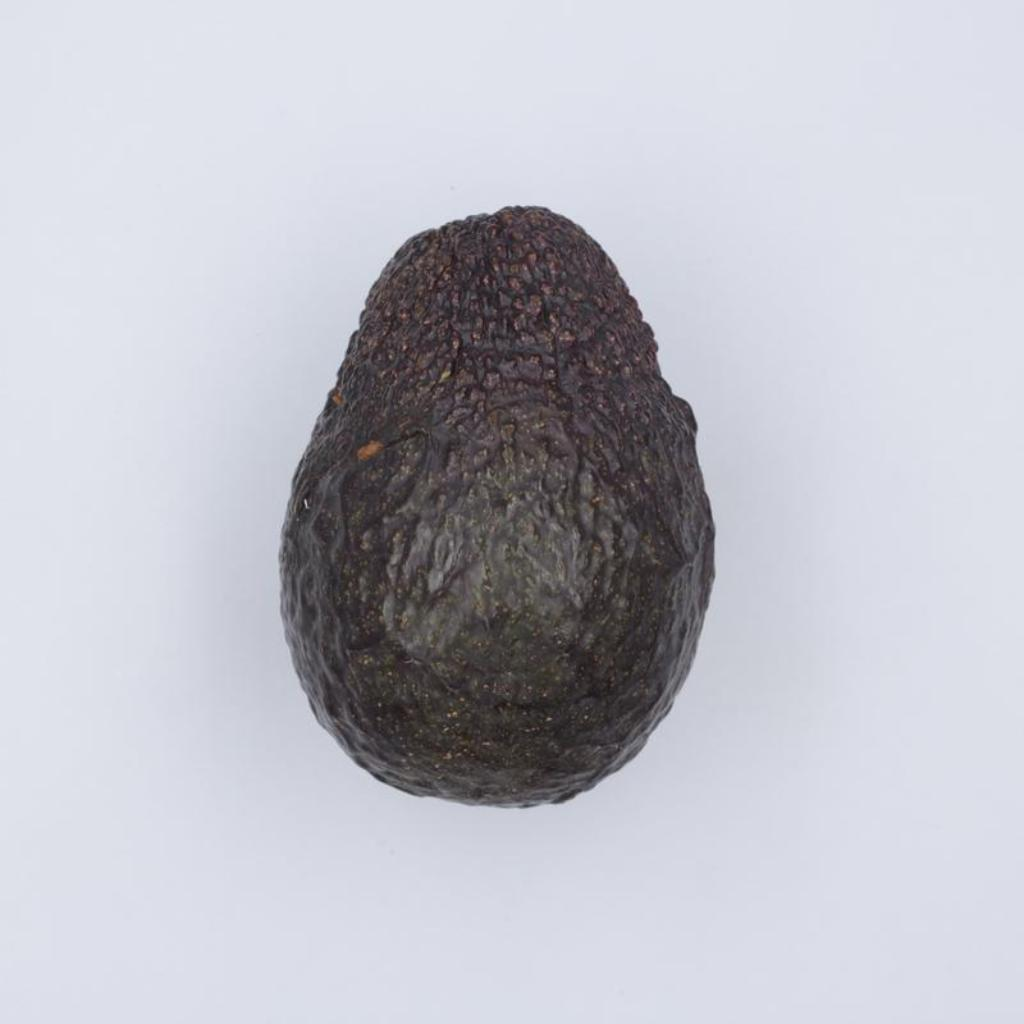anthracnose: (282, 206, 713, 805)
